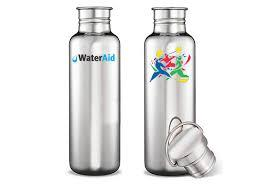Iron utensils: (144, 6, 216, 178), (66, 7, 124, 174)
